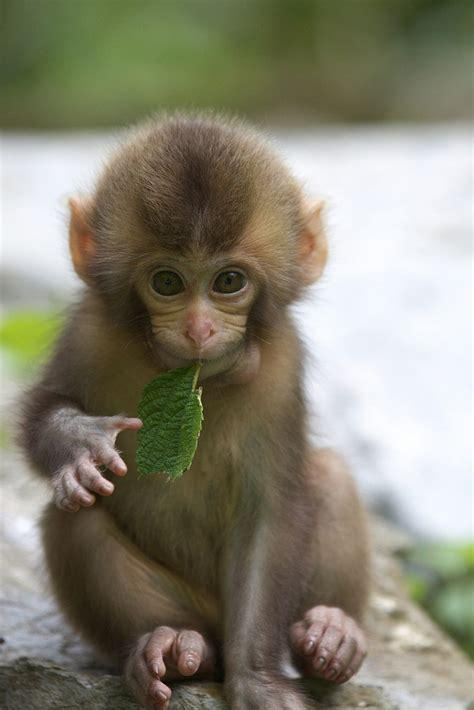monkey: (24, 122, 367, 702)
